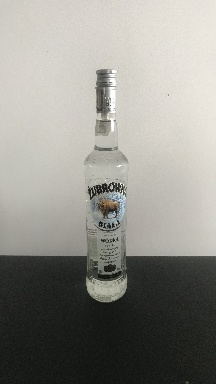butelka: (82, 65, 130, 304)
